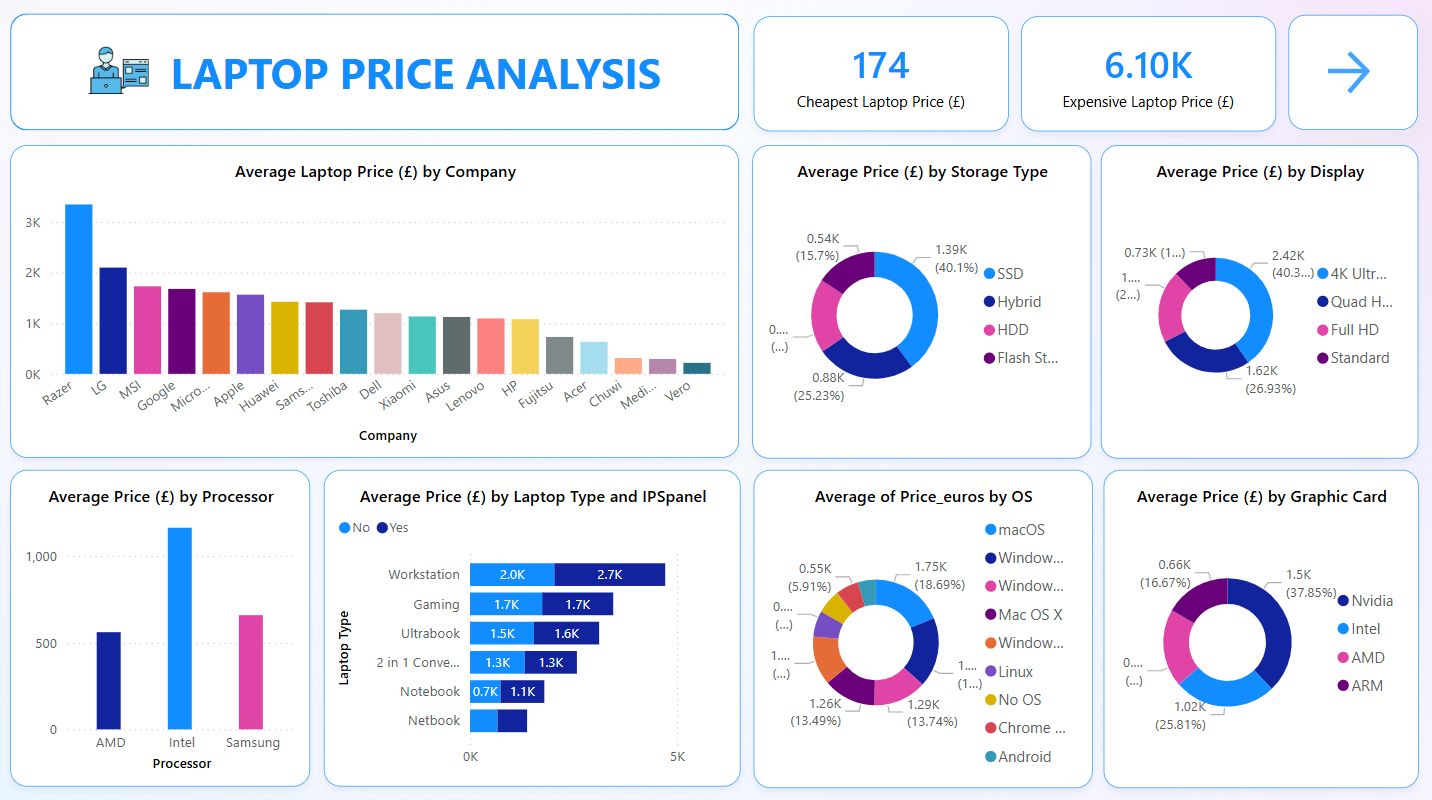

This screenshot's page, from the dashboard's own definition file:
{"tool":"powerbi","page":{"name":"Laptop Price","canvas":[1280,720],"ordinal":0},"visuals":[{"type":"columnChart","title":"Average Laptop Price (£) by Company","fields":{"Category":["laptop_prices.Company"],"Y":["Avg(laptop_prices.Price_euros)"],"Series":["laptop_prices.Company"]},"box":[10.6,131,651,279.2],"z":0},{"type":"donutChart","fields":{"Category":["laptop_prices.GPU_company"],"Y":["Avg(laptop_prices.Price_euros)"]},"box":[985.8,421.5,281.5,284.3],"z":1000},{"type":"donutChart","fields":{"Category":["laptop_prices.PrimaryStorageType"],"Y":["Avg(laptop_prices.Price_euros)"]},"box":[672.6,130.9,303,279.9],"z":2000},{"type":"donutChart","fields":{"Y":["Avg(laptop_prices.Price_euros)"],"Category":["laptop_prices.Screen"]},"box":[984,130.9,283.6,279.9],"z":3000},{"type":"donutChart","fields":{"Category":["laptop_prices.OS"],"Y":["Avg(laptop_prices.Price_euros)"]},"box":[673.2,421.5,302.7,284.3],"z":4000},{"type":"card","fields":{"Values":["Min(laptop_prices.Price_euros)"]},"box":[673.9,15.9,227.5,102.9],"z":5000},{"type":"shape","box":[10.6,13.2,651,104.5],"z":6000},{"type":"card","fields":{"Values":["Max(laptop_prices.Price_euros)"]},"box":[913,15.9,227.5,102.9],"z":7000},{"type":"barChart","fields":{"Category":["laptop_prices.TypeName"],"Y":["Avg(laptop_prices.Price_euros)"],"Series":["laptop_prices.IPSpanel"]},"box":[289.9,421.7,372.5,282.6],"z":8000},{"type":"ribbonChart","title":"Average Price (£) by Processor","fields":{"Category":["laptop_prices.CPU_company"],"Y":["Avg(laptop_prices.Price_euros)"],"Series":["laptop_prices.CPU_company"]},"box":[10.1,421.7,268.1,282.6],"z":9000},{"type":"image","box":[75.4,34.8,63.8,59.4],"z":10000},{"type":"actionButton","box":[1150.7,14.5,115.9,102.9],"z":11000}]}

Visuals, with their boxes in screenshot pixels (x1, y1, x2, y2), scaled from the page's 1280x720 canvas onto the 1432x800 screenshot:
"Average Laptop Price (£) by Company" columnChart: <bbox>12, 146, 740, 456</bbox>
donutChart - laptop_prices.GPU_company x Avg(laptop_prices.Price_euros): <bbox>1103, 468, 1418, 784</bbox>
donutChart - laptop_prices.PrimaryStorageType x Avg(laptop_prices.Price_euros): <bbox>752, 145, 1091, 456</bbox>
donutChart - Avg(laptop_prices.Price_euros) x laptop_prices.Screen: <bbox>1101, 145, 1418, 456</bbox>
donutChart - laptop_prices.OS x Avg(laptop_prices.Price_euros): <bbox>753, 468, 1092, 784</bbox>
card - Min(laptop_prices.Price_euros): <bbox>754, 18, 1008, 132</bbox>
shape: <bbox>12, 15, 740, 131</bbox>
card - Max(laptop_prices.Price_euros): <bbox>1021, 18, 1276, 132</bbox>
barChart - laptop_prices.TypeName x Avg(laptop_prices.Price_euros): <bbox>324, 469, 741, 783</bbox>
"Average Price (£) by Processor" ribbonChart: <bbox>11, 469, 311, 783</bbox>
image: <bbox>84, 39, 156, 105</bbox>
actionButton: <bbox>1287, 16, 1417, 130</bbox>
